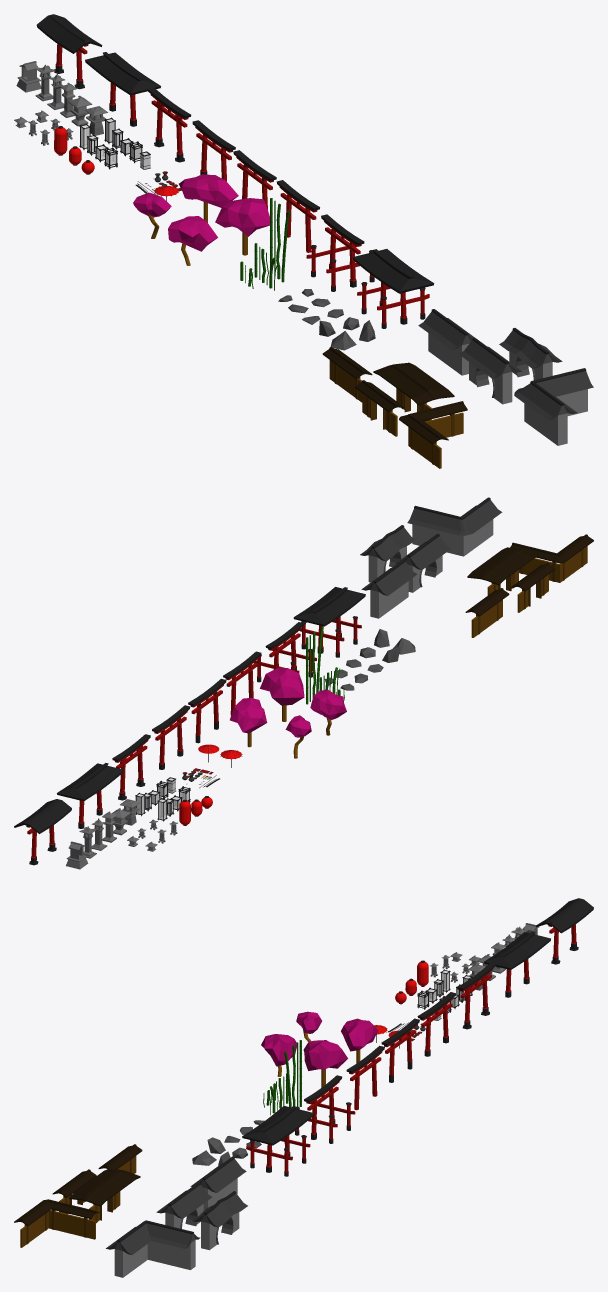
The model's file is LowPoly_Japanese_Pack_1.fbx.
The picture shows the model from 3 angles, top to bottom: view 1: azimuth 30°, elevation 25°; view 2: azimuth 150°, elevation 25°; view 3: azimuth 330°, elevation 25°; orthographic projection. The views are drawn at different scales.
Parts seen in each view (by area): view 1: BuildingA_Wall_Curve, Shrine_Gate_8, BuildingB_Wall_Curve, BuildingB_GateB, BuildingA_GateA, BuildingA_Wall_Straight, Shrine_Gate_2, BuildingA_GateB, Shrine_Gate_1, Shrine_Gate_7, SakuraTree_1_Leaves, SakuraTree_2_Leaves (+8 smaller); view 2: BuildingA_Wall_Curve, Shrine_Gate_8, BuildingB_Wall_Curve, BuildingA_Wall_Straight, BuildingB_GateB, Shrine_Gate_2, BuildingA_GateB, BuildingA_GateA, Shrine_Gate_1, SakuraTree_1_Leaves, Shrine_Gate_7, BuildingB_Wall_Straight (+7 smaller); view 3: BuildingA_Wall_Curve, BuildingB_Wall_Curve, Shrine_Gate_8, BuildingB_GateB, BuildingA_GateB, Shrine_Gate_2, Shrine_Gate_1, BuildingA_GateA, Shrine_Gate_7, BuildingA_Wall_Straight, SakuraTree_1_Leaves, Shrine_Gate_3 (+7 smaller).
Part boxes in pixels (x1,y1,x2,y2): BuildingA_Wall_Curve: (514,368,593,445); Shrine_Gate_8: (352,249,434,328); BuildingB_Wall_Curve: (399,401,467,468); BuildingB_GateB: (373,362,454,421); BuildingA_GateA: (459,337,522,404); BuildingA_Wall_Straight: (418,309,474,375); Shrine_Gate_2: (85,52,160,126); BuildingA_GateB: (499,328,562,380); Shrine_Gate_1: (36,14,102,89); Shrine_Gate_7: (306,214,374,291); SakuraTree_1_Leaves: (215,198,269,236); SakuraTree_2_Leaves: (179,174,238,207); BuildingA_Wall_Curve: (407,497,502,556); Shrine_Gate_8: (293,587,365,657); BuildingB_Wall_Curve: (510,534,593,582); BuildingA_Wall_Straight: (361,559,417,618); BuildingB_GateB: (467,547,538,595); Shrine_Gate_2: (57,763,123,828); BuildingA_GateB: (360,525,415,582); BuildingA_GateA: (396,533,451,592); Shrine_Gate_1: (14,799,71,865); SakuraTree_1_Leaves: (260,667,304,705); Shrine_Gate_7: (253,622,316,682); BuildingB_Wall_Straight: (465,588,509,637); BuildingA_Wall_Curve: (106,1220,200,1277); BuildingB_Wall_Curve: (14,1199,99,1247); Shrine_Gate_8: (242,1106,314,1176); BuildingB_GateB: (69,1168,140,1223); BuildingA_GateB: (192,1191,247,1250); Shrine_Gate_2: (484,931,550,997); Shrine_Gate_1: (536,898,593,964); BuildingA_GateA: (156,1182,212,1228); Shrine_Gate_7: (295,1075,355,1143); BuildingA_Wall_Straight: (190,1156,246,1210); SakuraTree_1_Leaves: (303,1040,347,1070); Shrine_Gate_3: (457,963,495,1029).
Size of the model in its own units: 1869 by 757 by 9262.
